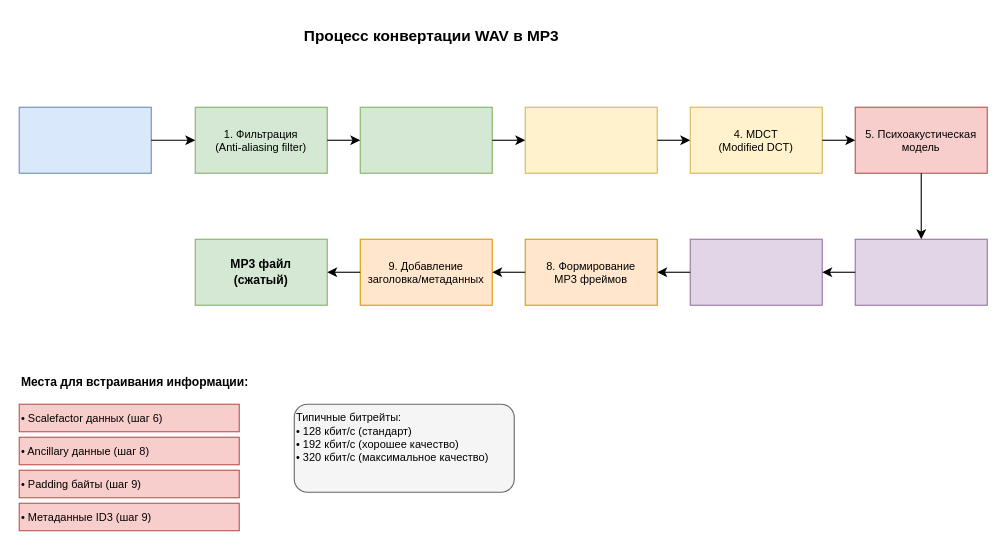
Image size: 1007x550. Some labels were removed from this diagram. Each missing label, with the centre of its shape:
"2. Субдискретизация (Downsampling)" belongs at point 425,139.
"3. Разбиение на кадры (Analysis filter bank)" belongs at point 590,139.
"6. Квантование (Quantization)" belongs at point 920,271.
"7. Кодирование Хаффмана" belongs at point 755,271.
"WAV файл (несжатый PCM)" belongs at point 84,139.
